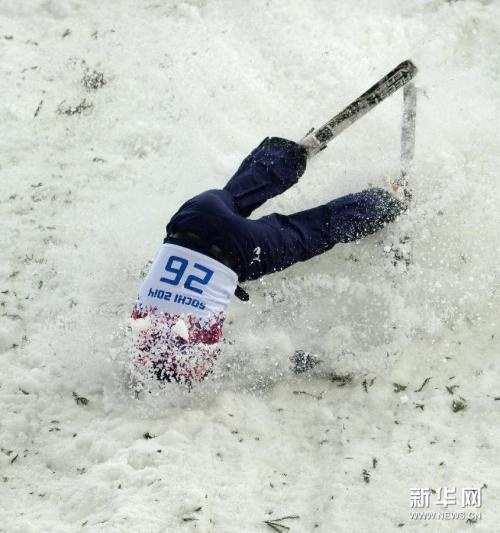falling: (120, 54, 433, 416)
